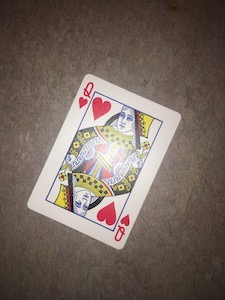QueenOfHearts: (22, 70, 185, 255)
